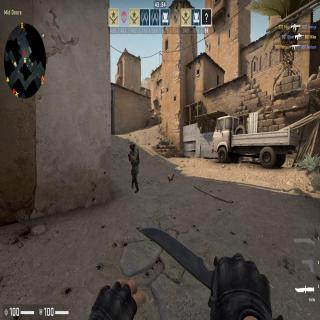CT-Body: (128, 141, 140, 193)
CT-Head: (129, 142, 135, 150)
